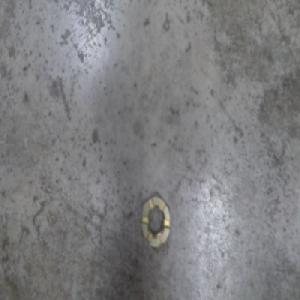Nut: (139, 189, 171, 250)
